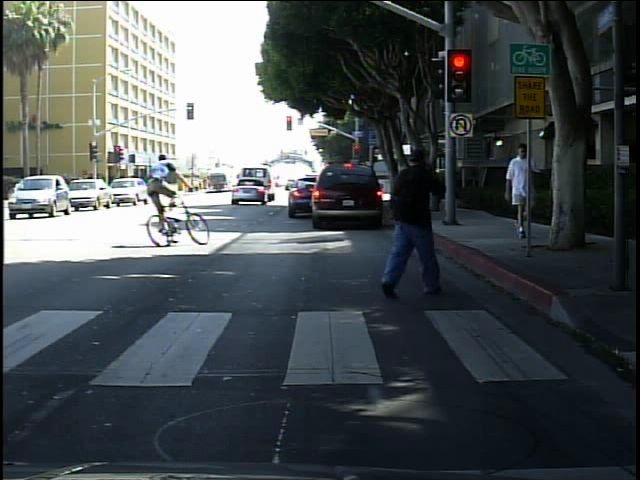person: (375, 138, 446, 301), (125, 137, 187, 237), (551, 138, 587, 244), (505, 139, 538, 240)
